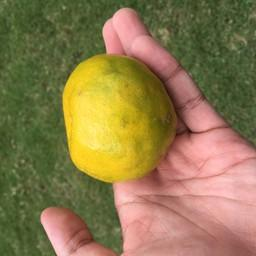Good_orange: (61, 50, 176, 175)
